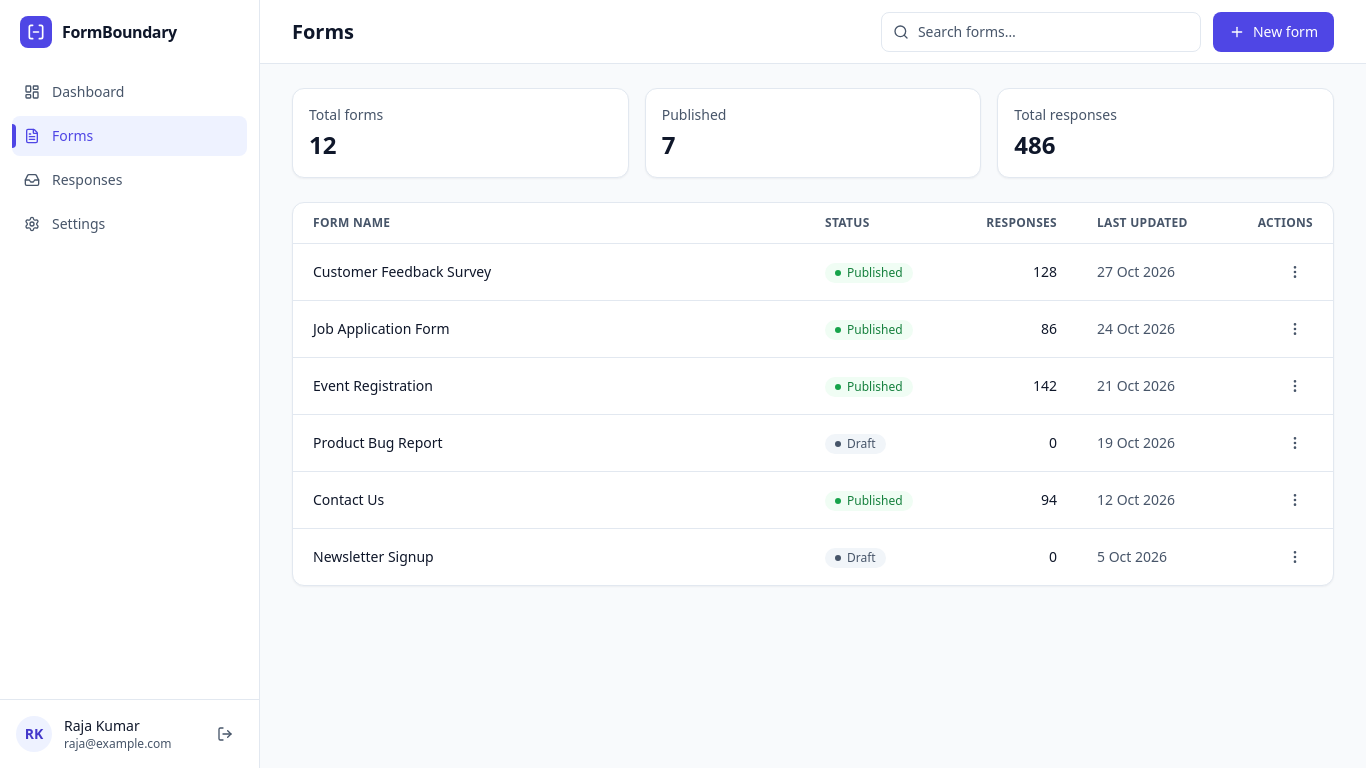
row actions menu › opens with six actions and closes on Escape, returning focus
This screenshot has width=1366, height=768.
Click the button named "Actions for Customer Feedback Survey" at (1295, 272), box [1277, 254, 1313, 290]
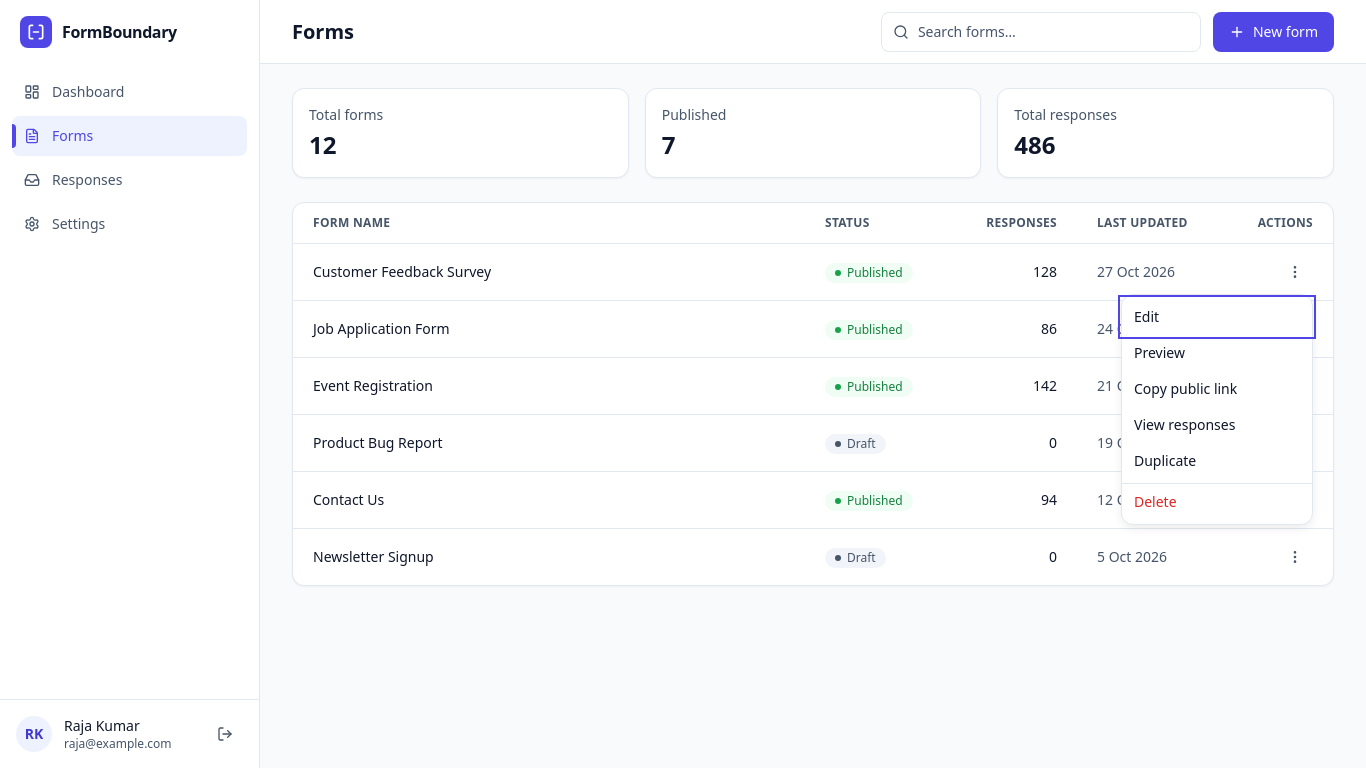
Expected: the menu items read "Edit", "Preview", "Copy public link", "View responses", "Duplicate", "Delete", in this order, [1122, 299, 1312, 335]; [1122, 335, 1312, 371]; [1122, 371, 1312, 407]; [1122, 407, 1312, 443]; [1122, 443, 1312, 479]; [1122, 483, 1312, 520]
Press Escape
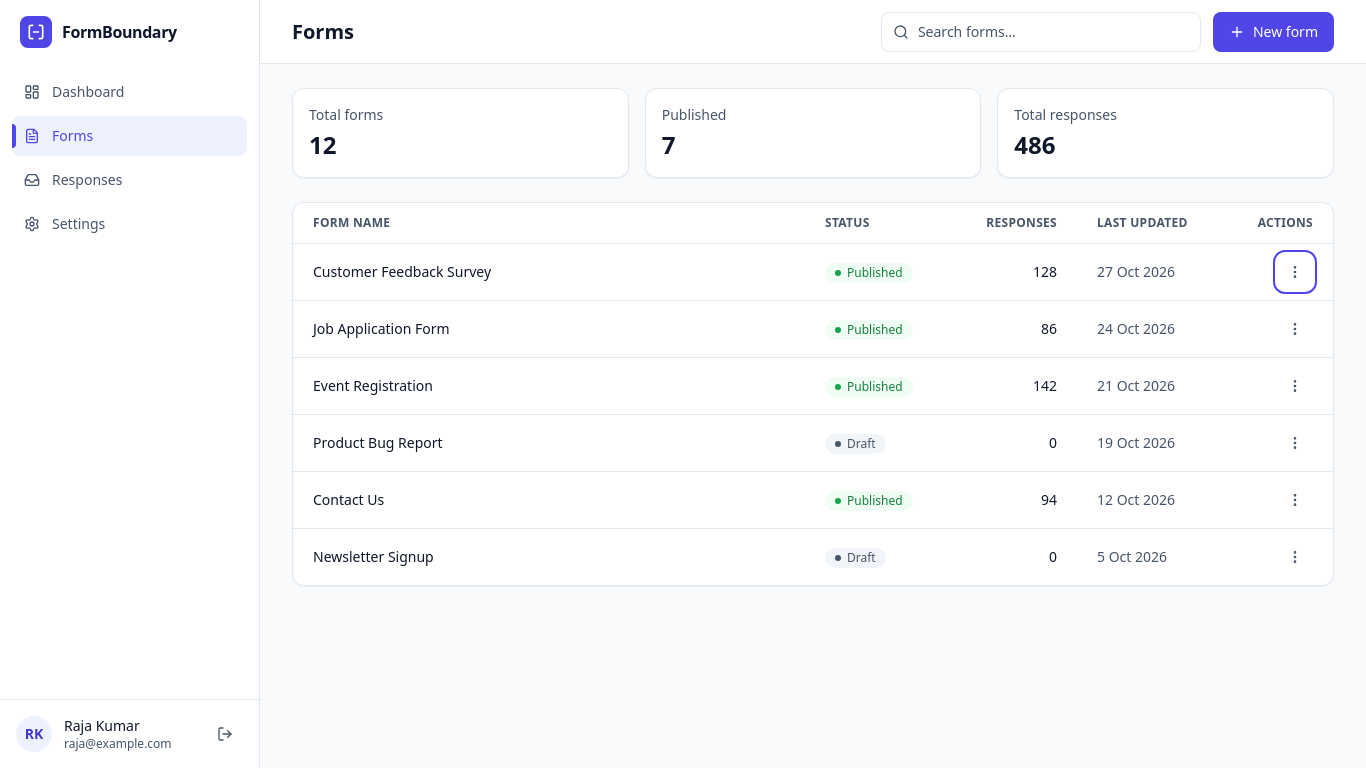
Expected: the menu is gone
